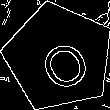O_NW: (27, 24, 91, 90)
